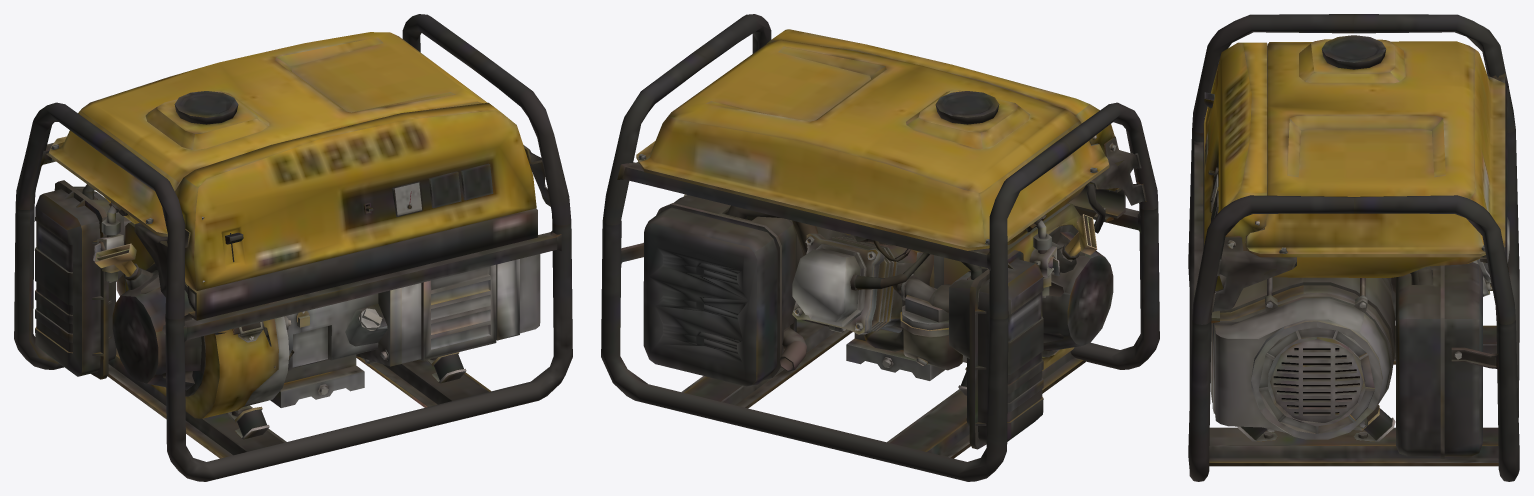
The model's file is portable_generator.glb.
The picture shows the model from 3 angles, left to right: view 1: azimuth 30°, elevation 25°; view 2: azimuth 150°, elevation 25°; view 3: azimuth 270°, elevation 25°; orthographic projection.
Parts seen in each view (by area): view 1: portable_generator; view 2: portable_generator; view 3: portable_generator.
Boxes of the visible parts, x1,y1,x2,y2 form: portable_generator: (14,14,572,481); portable_generator: (601,14,1159,481); portable_generator: (1188,14,1519,481).
Bounding box in the file's own units: 0.8169 × 0.5752 × 0.564.
Materials: 2 (2 with a texture image).
